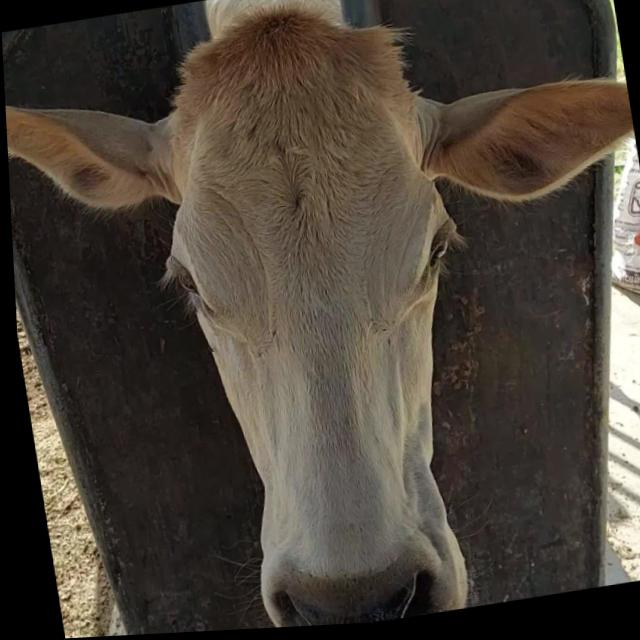cowFace: (123, 0, 504, 635)
